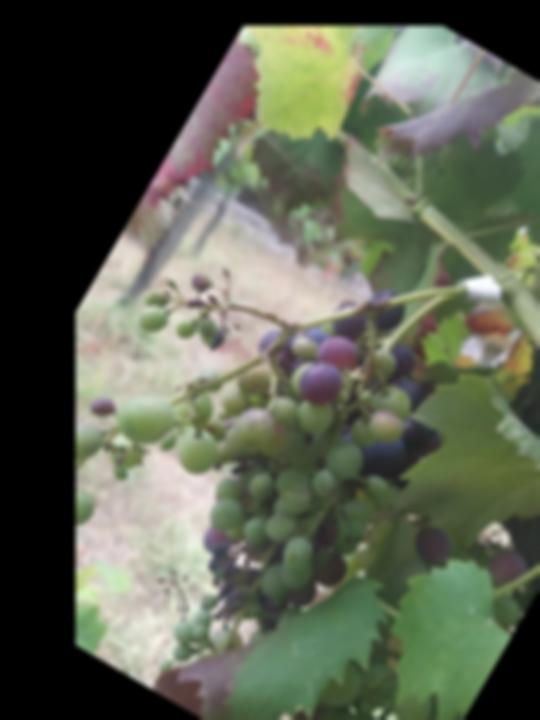grape: (0, 162, 494, 720)
